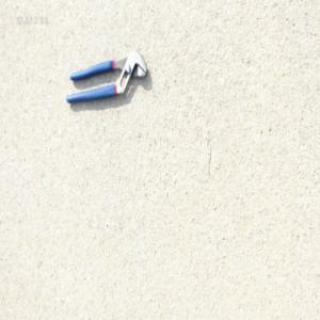Pliertrack_idkeyframe: (64, 47, 148, 105)
